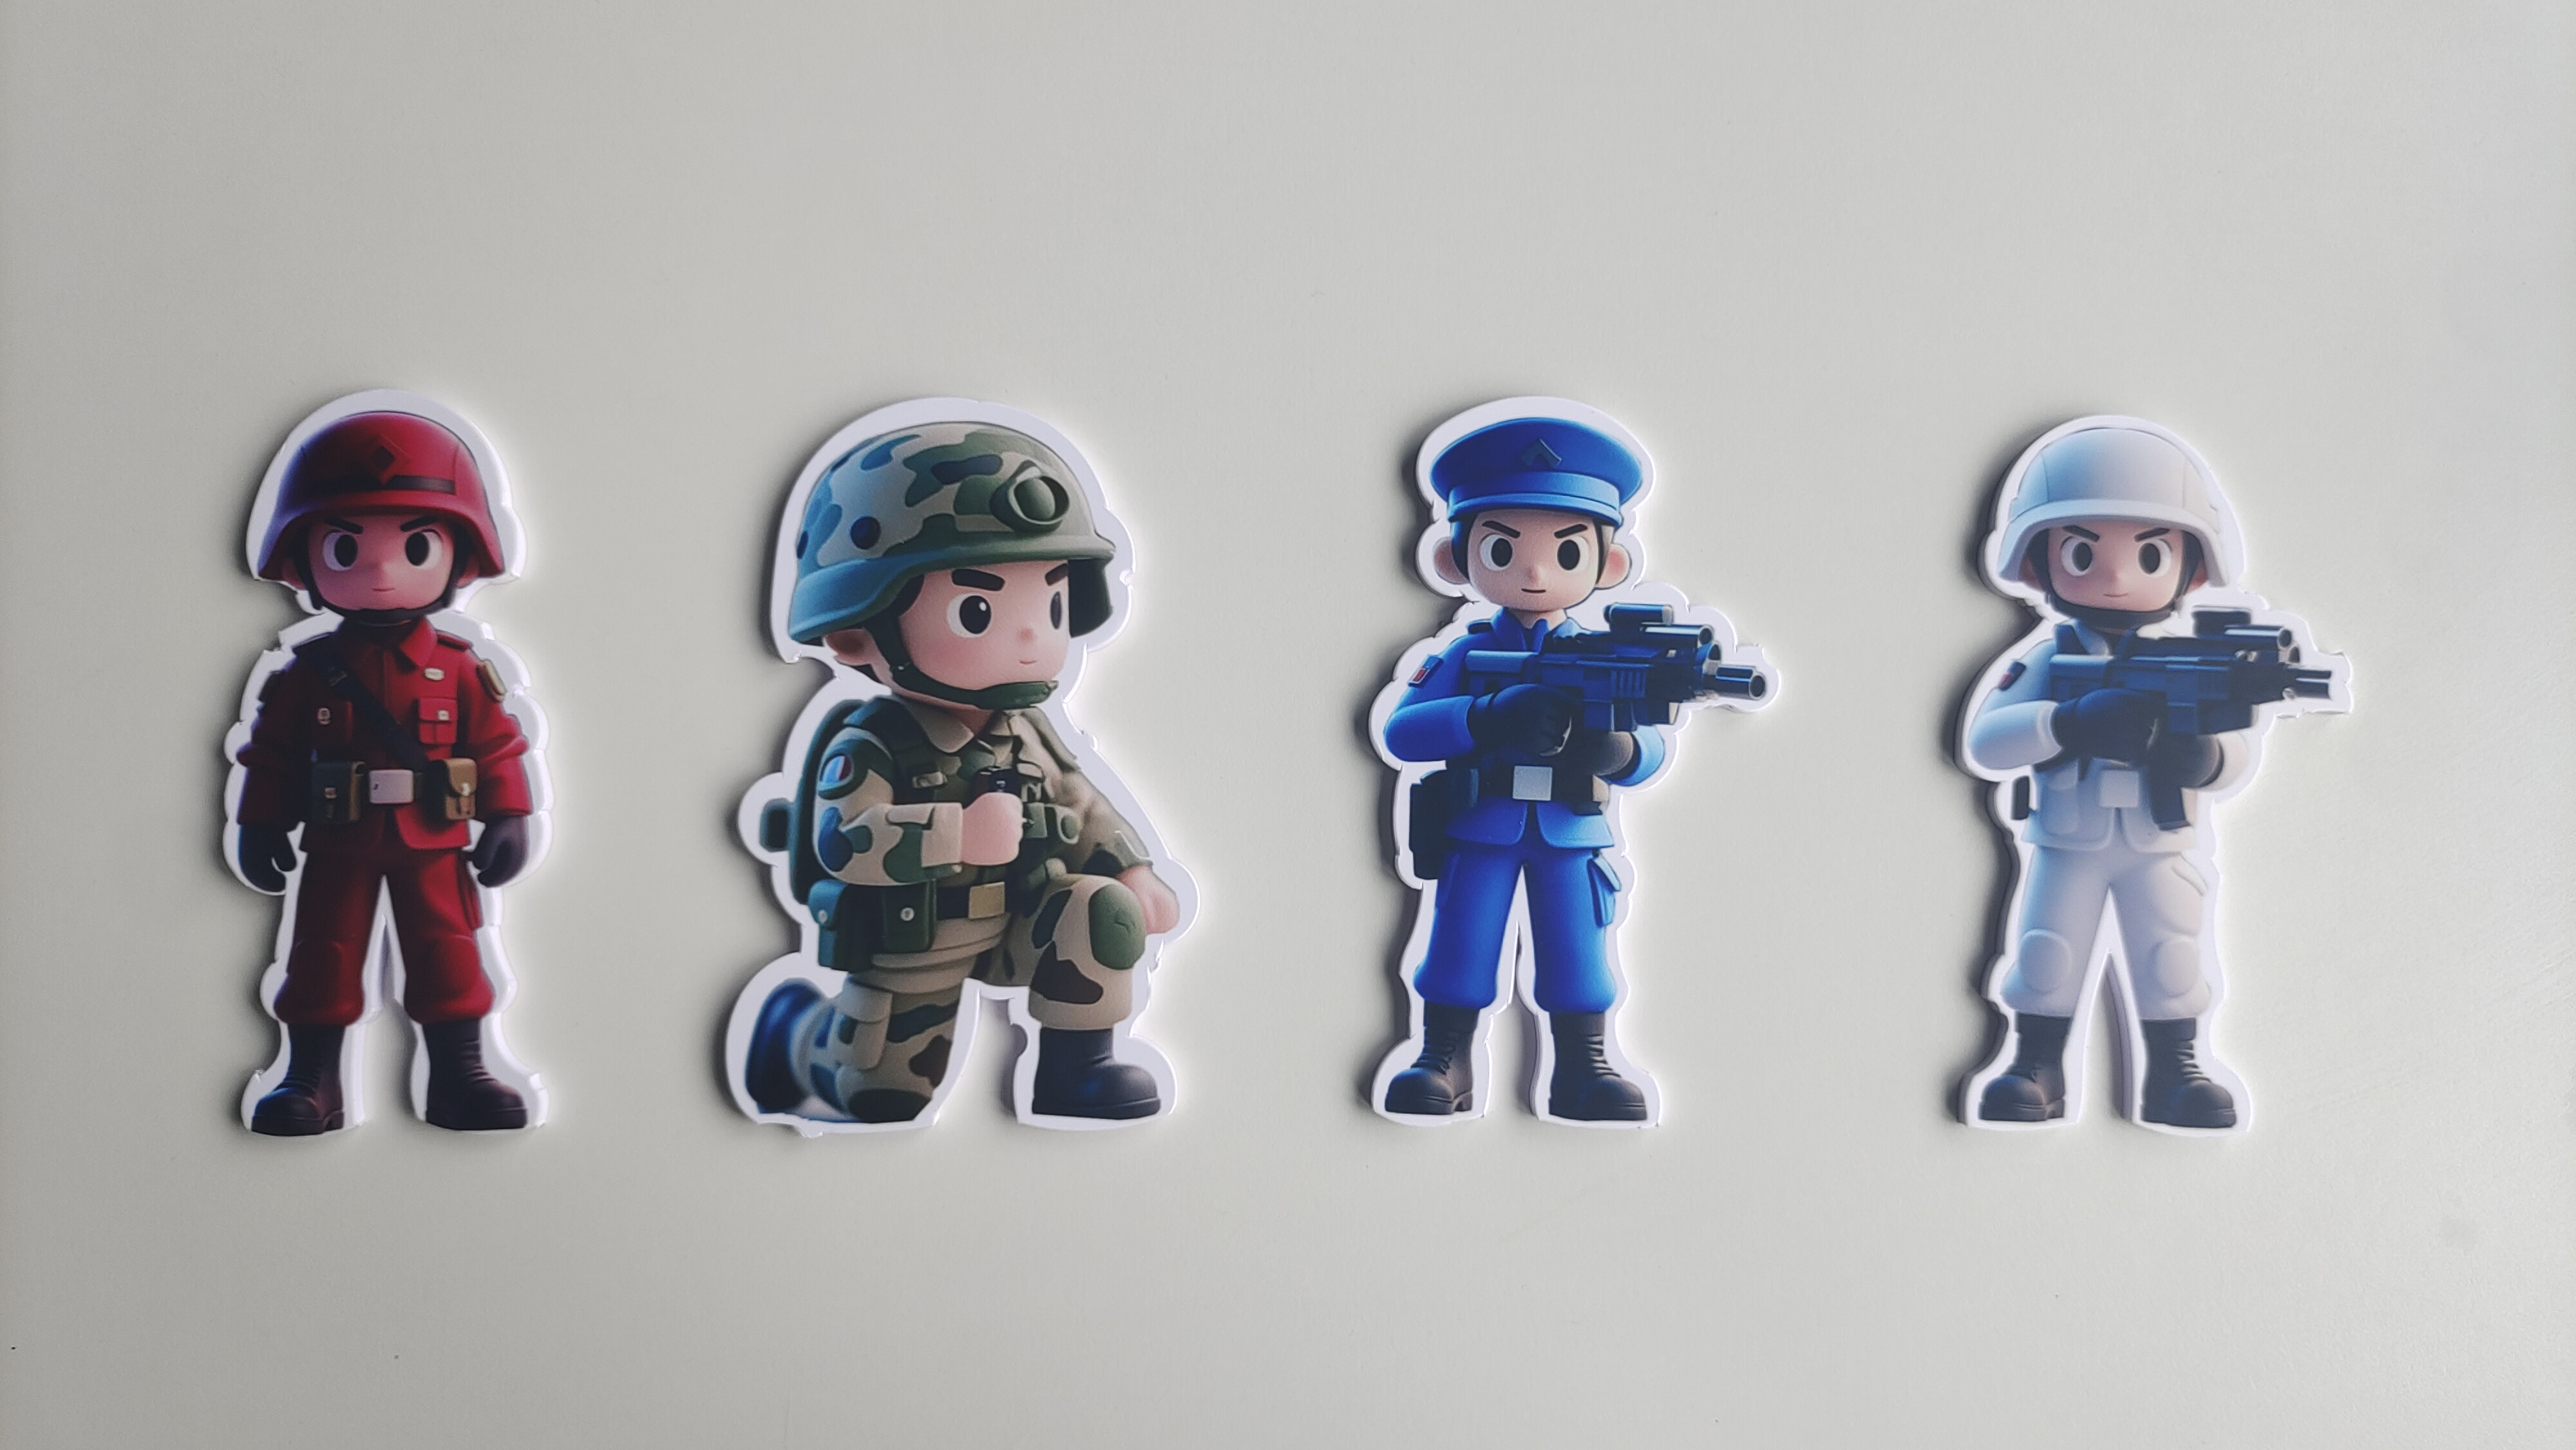enemy1: (200, 621, 575, 1149)
enemy2: (1341, 615, 1713, 1149)
friend: (695, 702, 1198, 1162)
hostage: (1937, 635, 2284, 1149)
